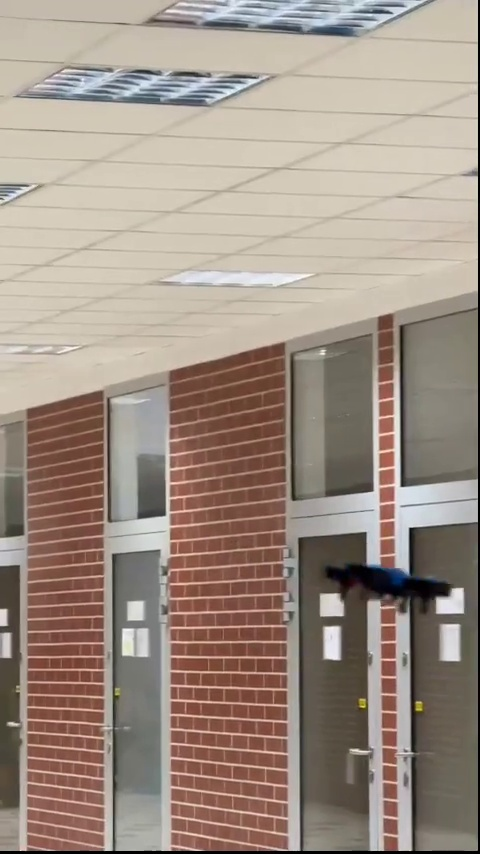drone: (325, 557, 447, 617)
